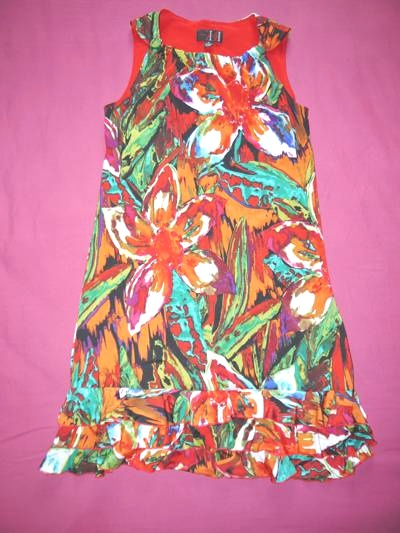Dress: (34, 12, 366, 503)
